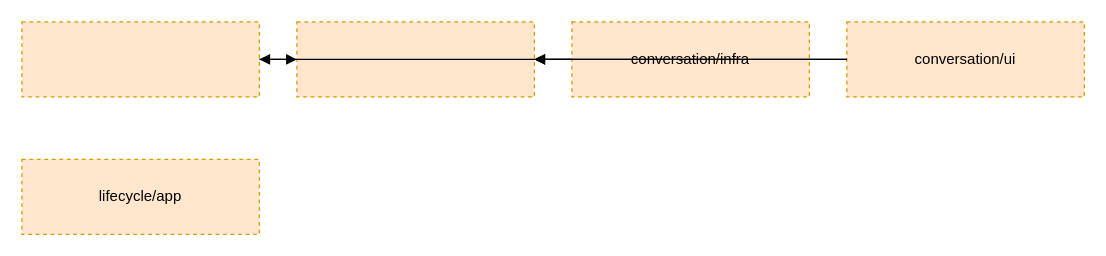
Some shapes in this 1106 by 256 pixel diagram are drawn without their labels. Each missing label, with the centre of its shape:
"conversation/app" goes at [140,59].
"conversation/domain" goes at [415,59].
